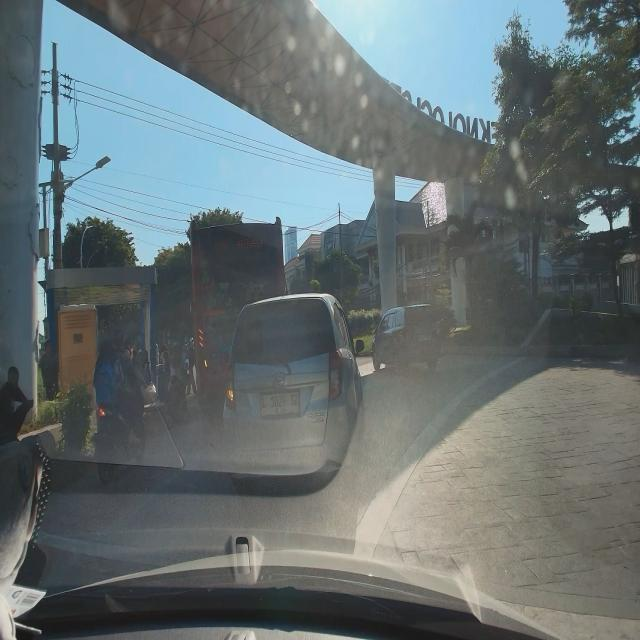car: (224, 295, 367, 491), (369, 306, 444, 375)
license-plate: (258, 388, 302, 416), (419, 331, 435, 344)
